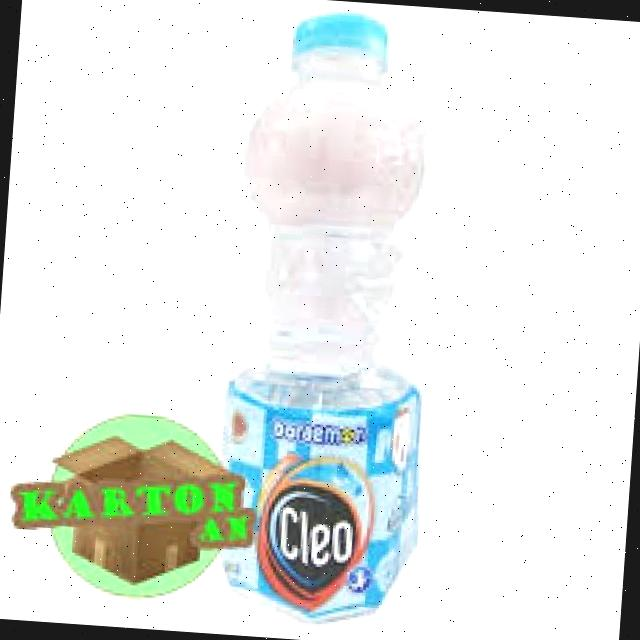bottle: (175, 0, 479, 638)
cap: (282, 5, 398, 68)
